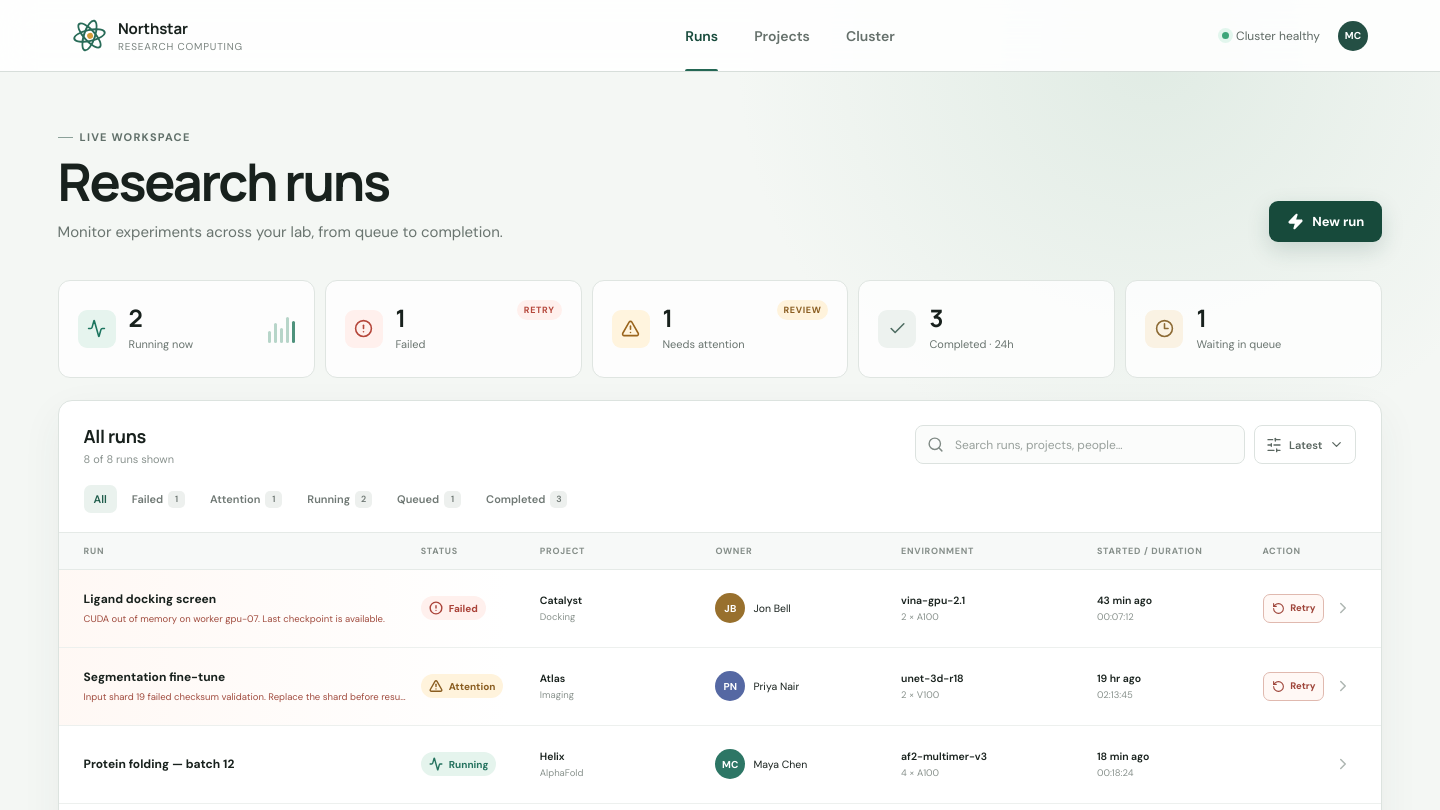
Test: Research runboard › filters by status and clears the filter
This screenshot has width=1440, height=810.
Click the button "Failed 1" at (158, 499), box [122,484,195,515]
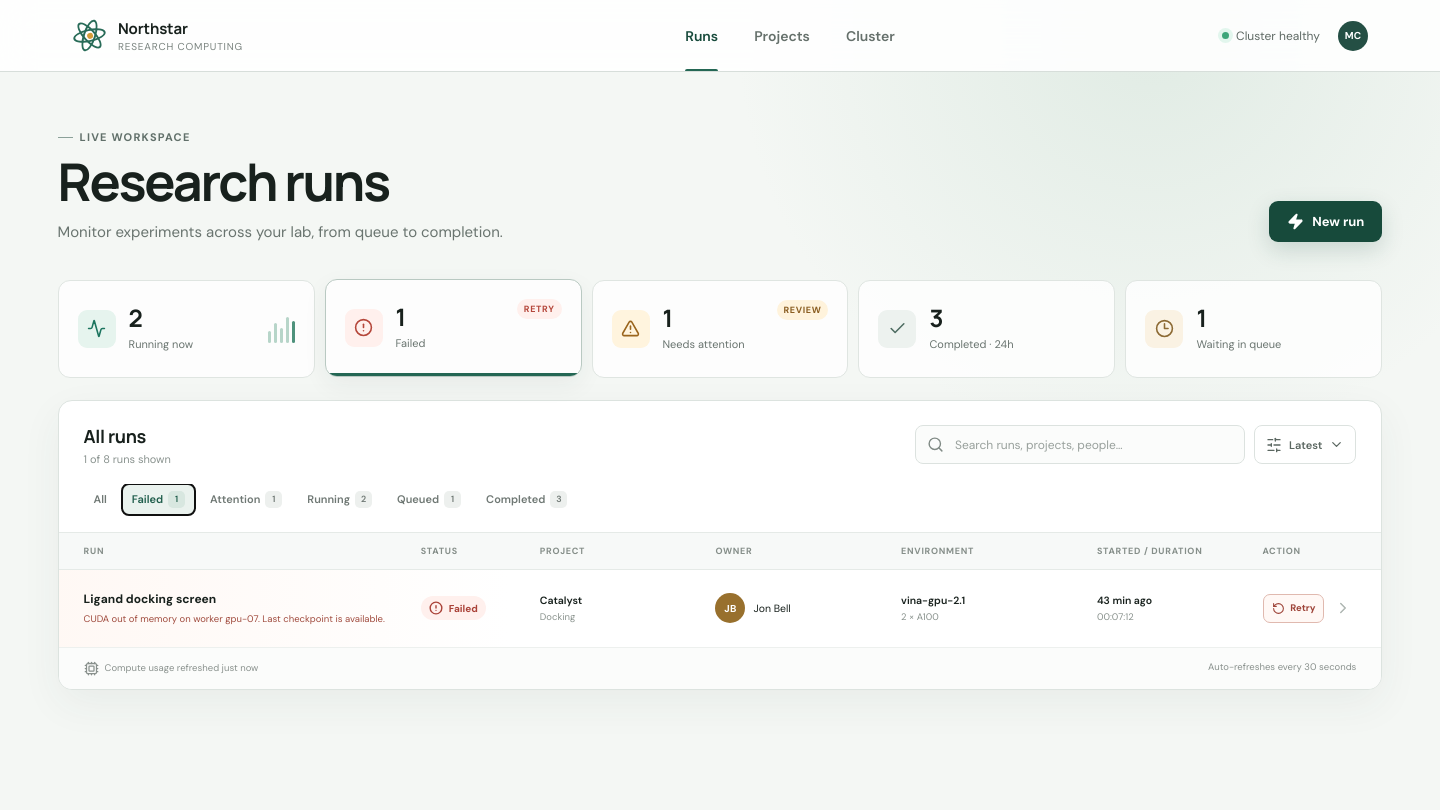
Expected: the button "Ligand docking screen" is shown, [84,591,216,608]
Result: the text "1 of 8 runs shown" is shown at [84,452,171,466]
Result: the button "Protein folding — batch 12" is gone
Click the button "All" at (100, 499), box [84,485,117,513]
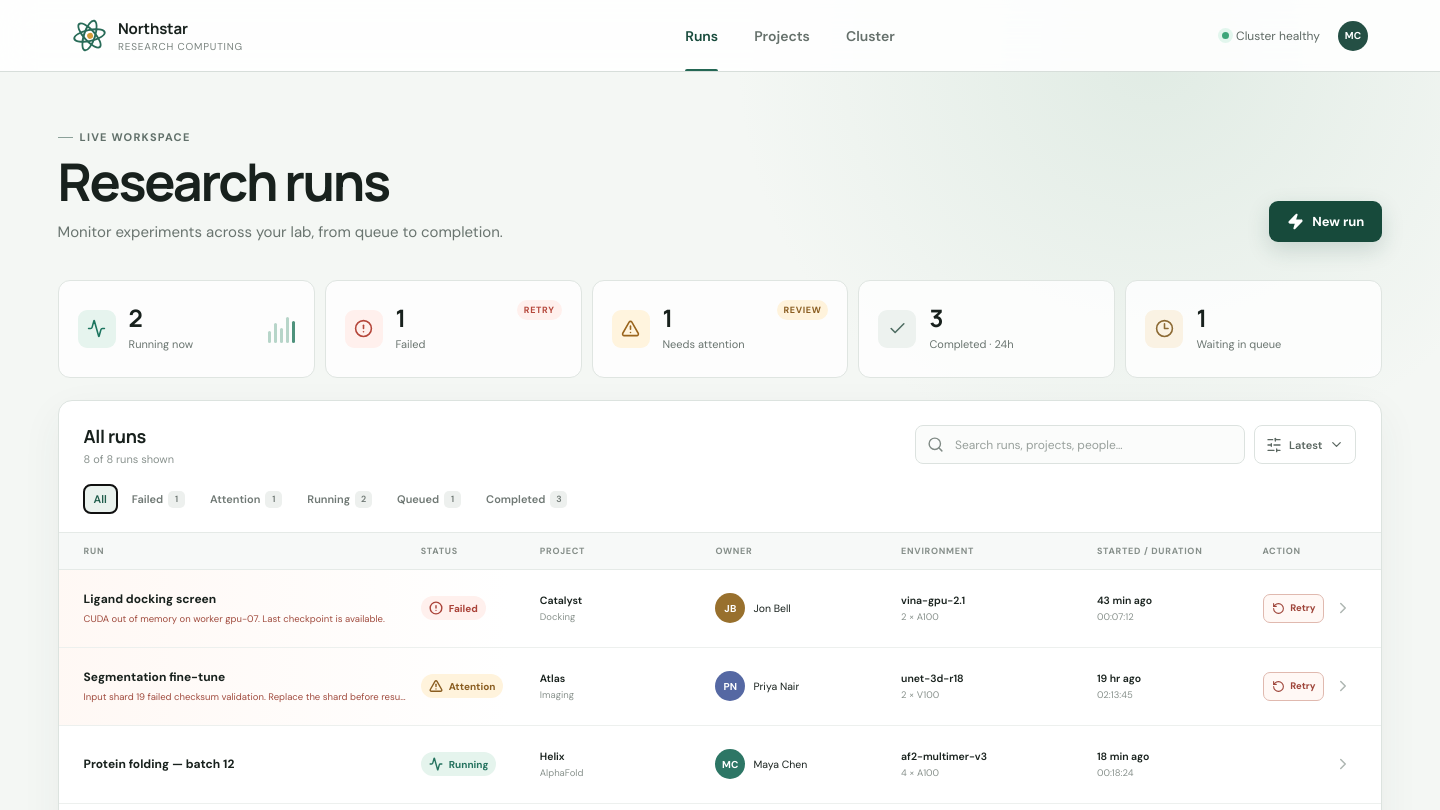
Result: the text "8 of 8 runs shown" is shown at [84,452,174,466]
